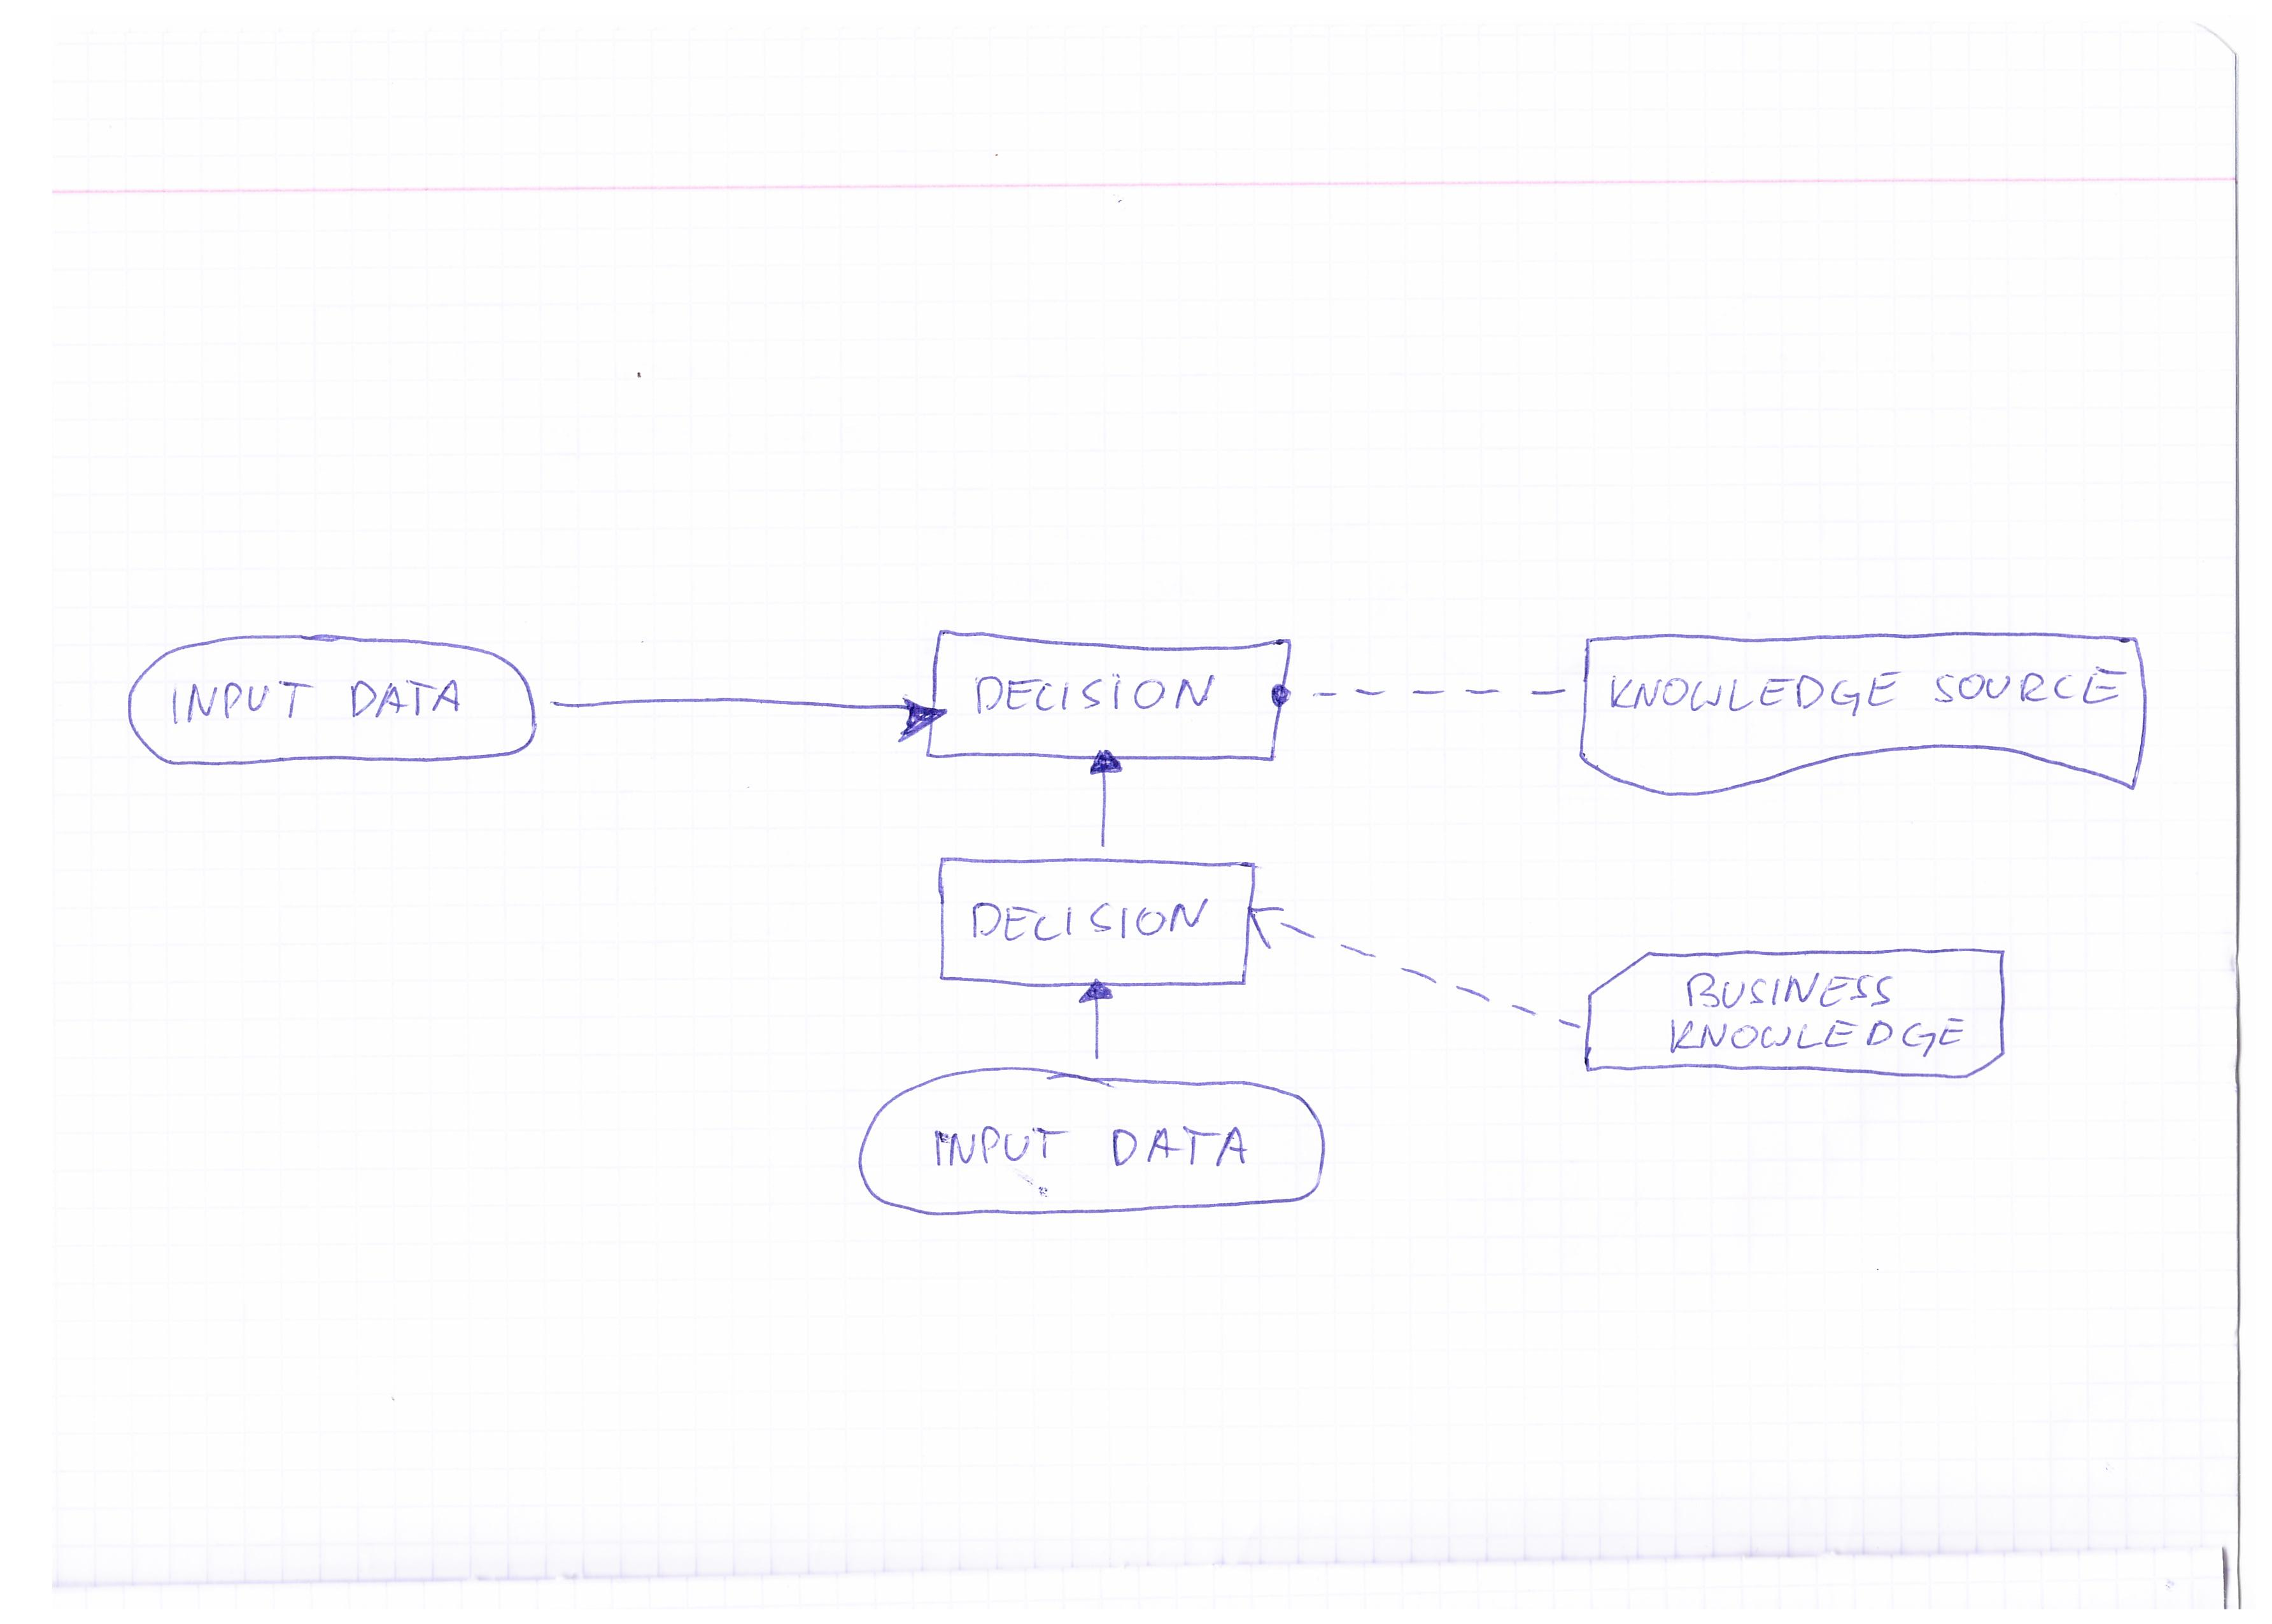arrow_authority_requirement: (1262, 668, 1573, 719)
arrow_information_requirement: (541, 682, 954, 747), (1081, 747, 1125, 852), (1075, 974, 1114, 1067)
arrow_knowledge_requirement: (1239, 895, 1583, 1042)
node_decision: (917, 620, 1295, 770), (919, 844, 1260, 993)
node_input_data: (843, 1065, 1349, 1227), (116, 624, 545, 784)
text: (1597, 659, 2133, 729), (1655, 965, 1979, 1058), (912, 1104, 1272, 1186), (156, 663, 471, 735), (965, 661, 1226, 729), (963, 889, 1221, 951)
